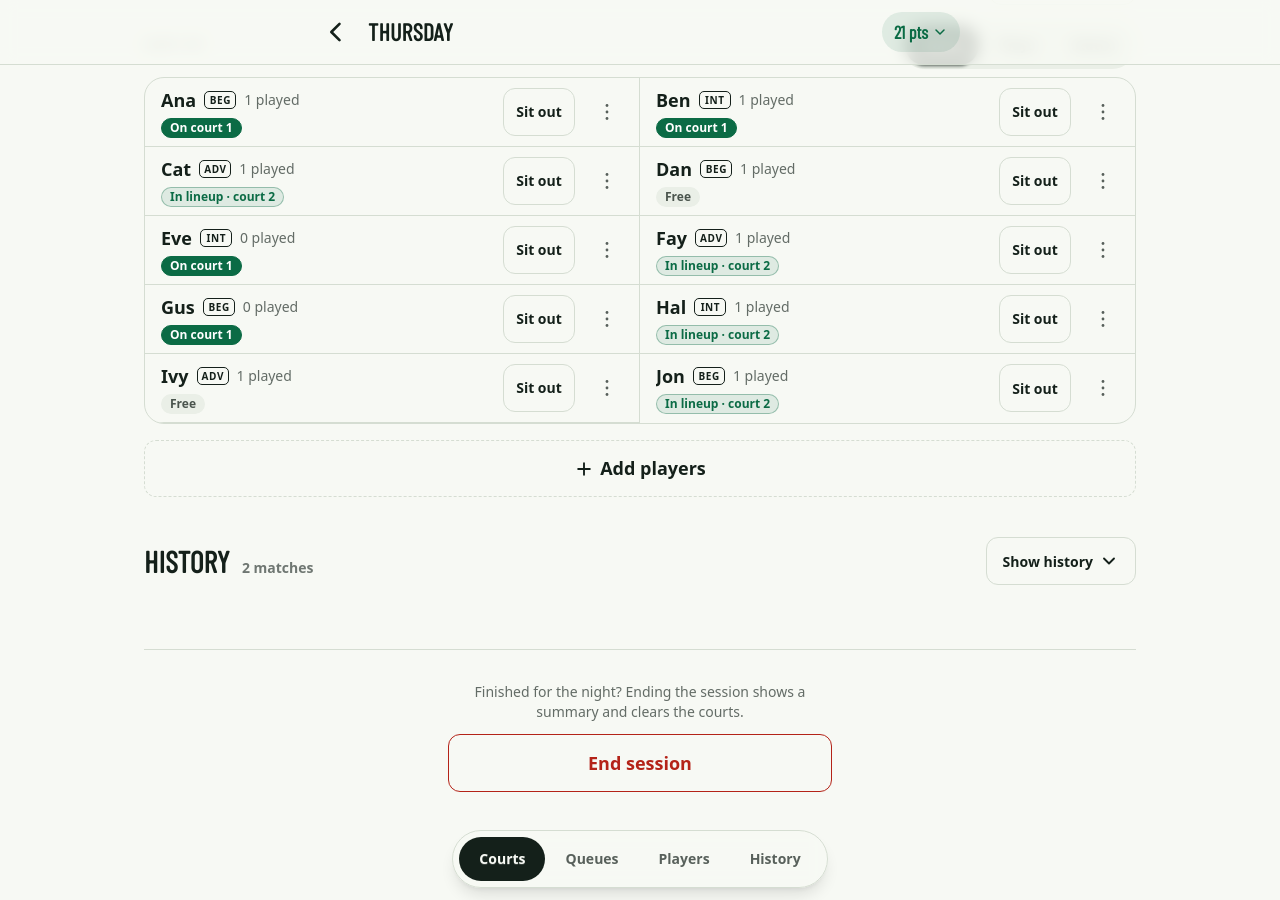
Test: EndSessionSection › ends the session, keeps it as an Ended session and opens its summary
(page scrolled)
Click the button "End session": {"x": 640, "y": 763} [448,734,832,792]
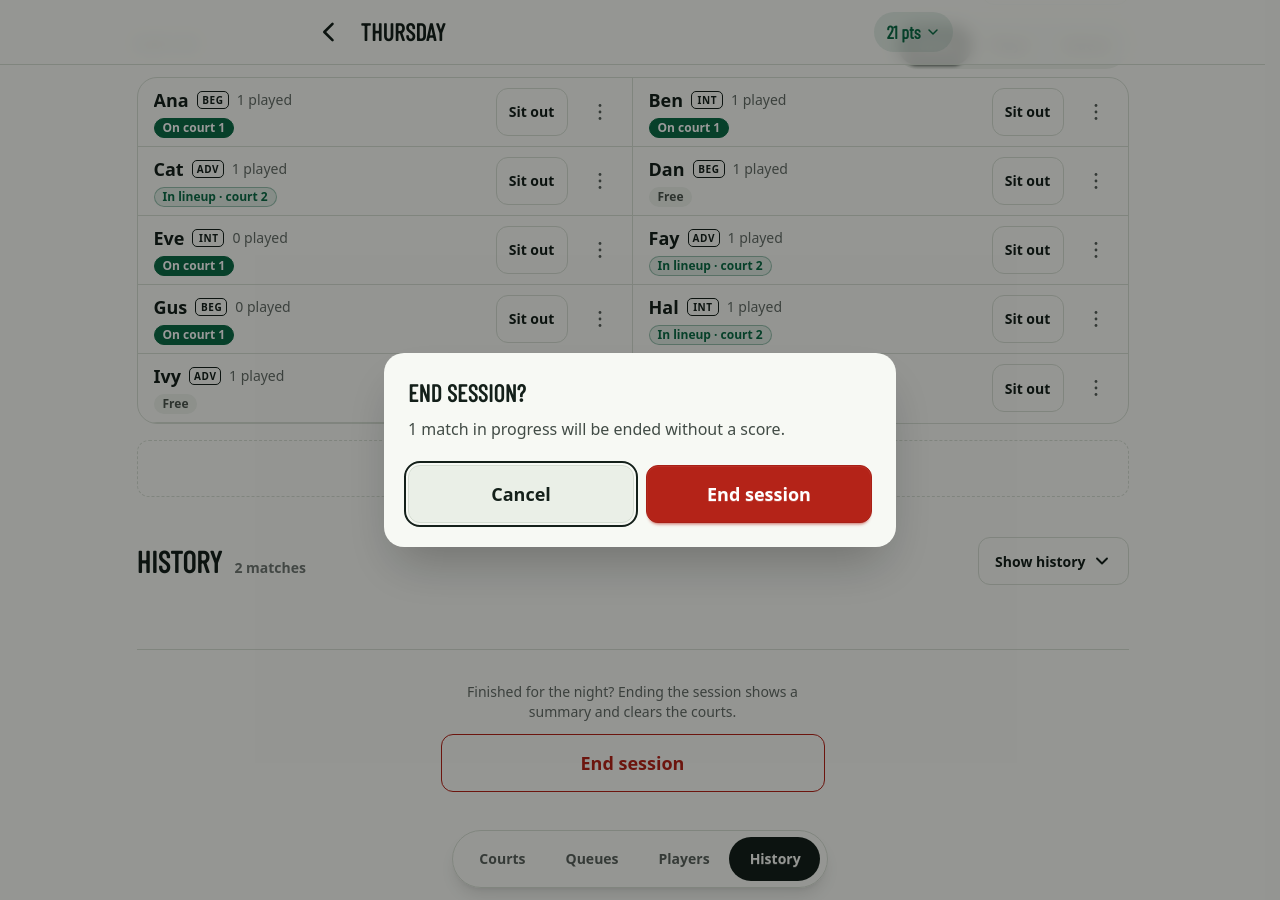
Click the button "End session" below "End session?": {"x": 759, "y": 494} [646,465,872,523]
(page scrolled)
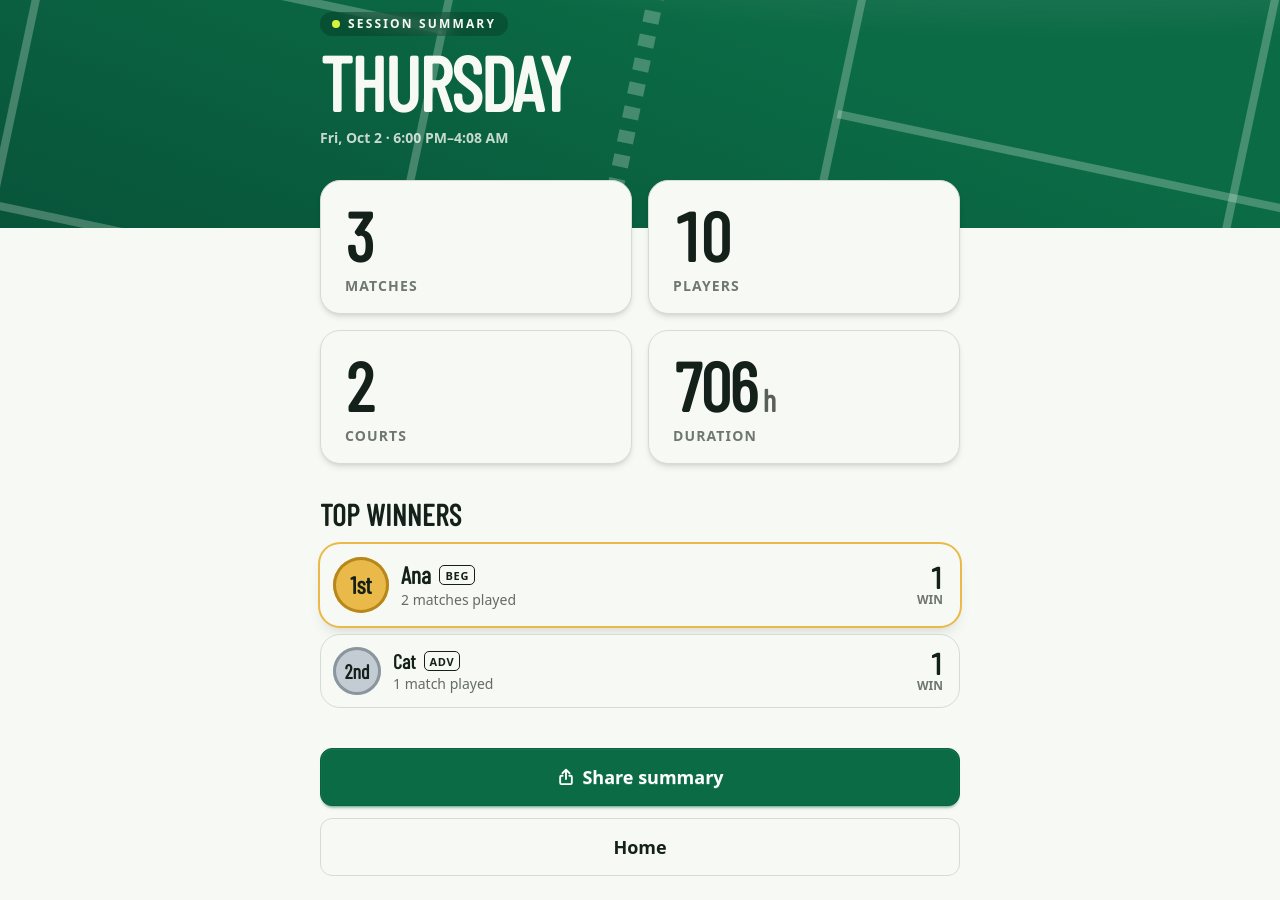
Now the heading "Session summary" is shown, box [320,12,508,36]
